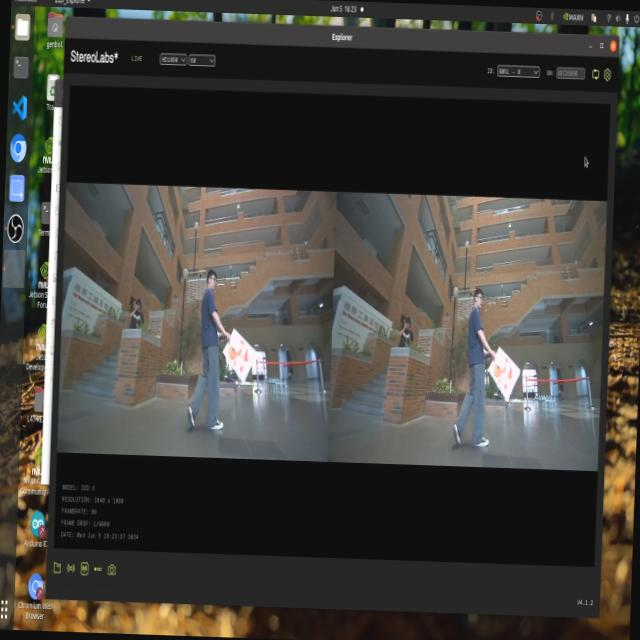red: (493, 350, 518, 393), (226, 336, 248, 376)
